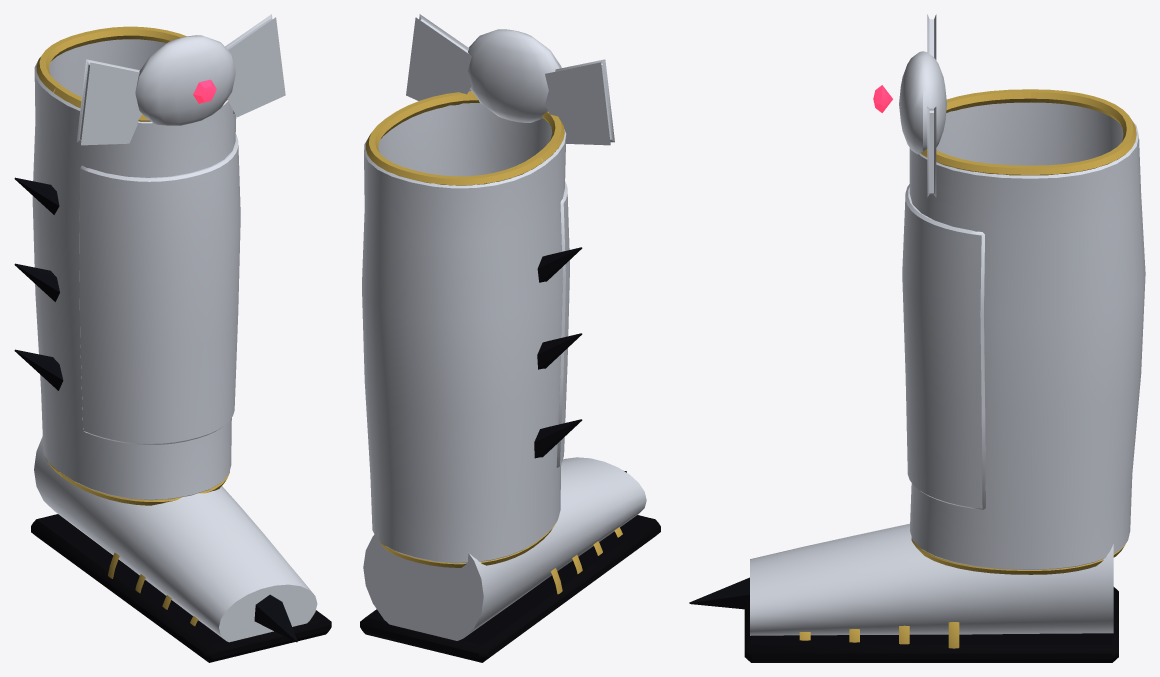
The model's file is esc_worldsend_bulwark_boots_R.glb.
3 views of the same model, side by side, from view 1: azimuth 30°, elevation 25°; view 2: azimuth 150°, elevation 25°; view 3: azimuth 270°, elevation 25° (orthographic). The views are drawn at different scales.
Parts seen in each view (by area): view 1: esc_worldsend_bulwark_boots, AT_foot_R; view 2: esc_worldsend_bulwark_boots, AT_foot_R; view 3: esc_worldsend_bulwark_boots, AT_foot_R.
Boxes of the visible parts, x1,y1,x2,y2 form: esc_worldsend_bulwark_boots: (14, 14, 285, 505); AT_foot_R: (31, 436, 331, 662); esc_worldsend_bulwark_boots: (362, 14, 614, 567); AT_foot_R: (360, 457, 660, 662); esc_worldsend_bulwark_boots: (873, 14, 1145, 574); AT_foot_R: (689, 523, 1118, 662).
Size of the model in its own units: 0.2427 by 0.5768 by 0.4142.
